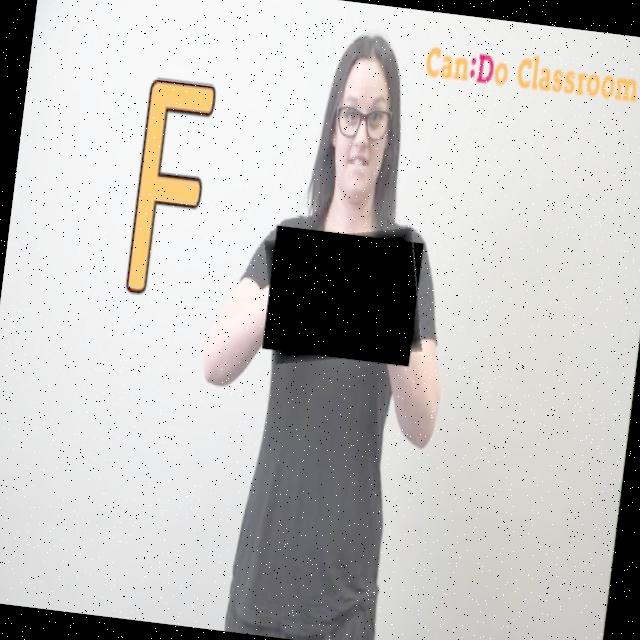F: (257, 218, 432, 375)
